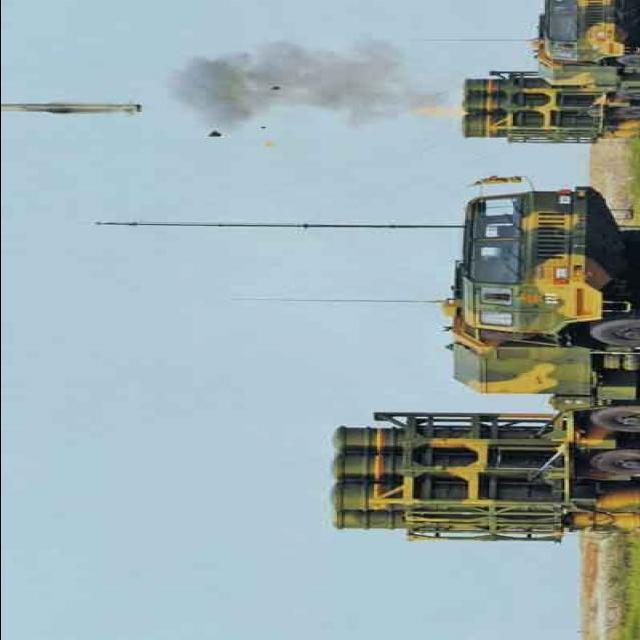missile: (4, 99, 150, 124)
